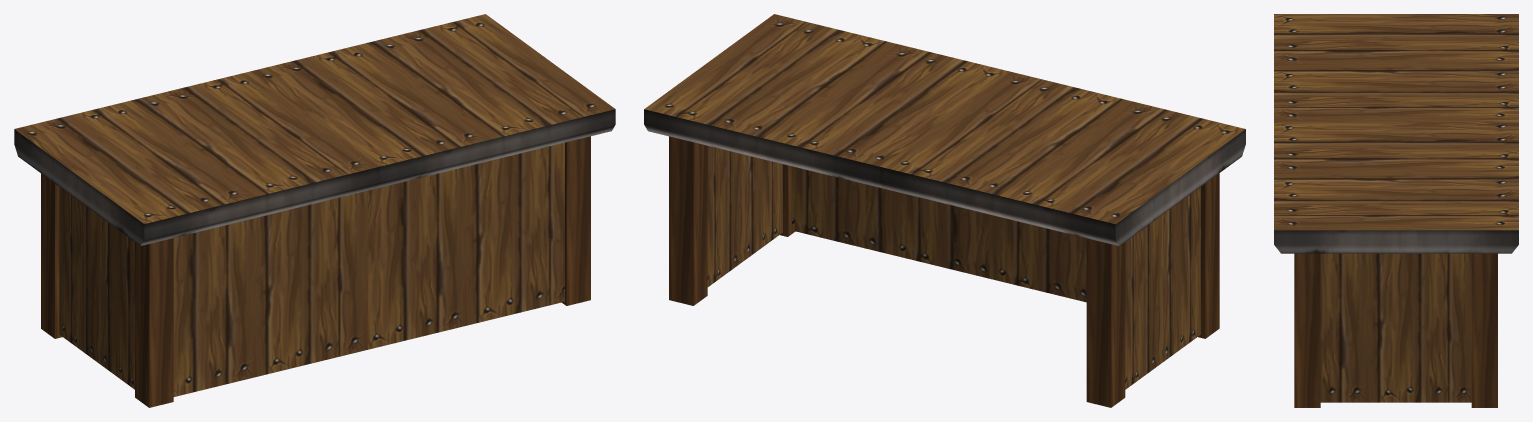
File: Table01.fbx
The picture shows the model from 3 angles, left to right: view 1: azimuth 30°, elevation 25°; view 2: azimuth 150°, elevation 25°; view 3: azimuth 270°, elevation 25°; orthographic projection. The views are drawn at different scales.
Parts seen in each view (by area): view 1: Table01; view 2: Table01; view 3: Table01.
Boxes of the visible parts, x1,y1,x2,y2 form: Table01: (14, 14, 615, 407); Table01: (644, 14, 1245, 407); Table01: (1274, 14, 1518, 407).
Bounding box in the file's own units: 5.72 × 2.27 × 2.73.
